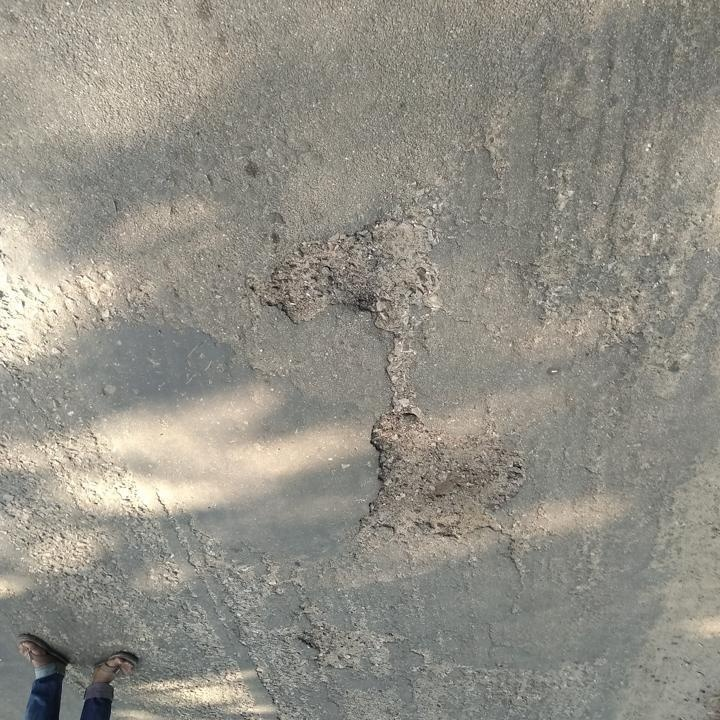pothole: (361, 404, 530, 545), (272, 200, 439, 339)
